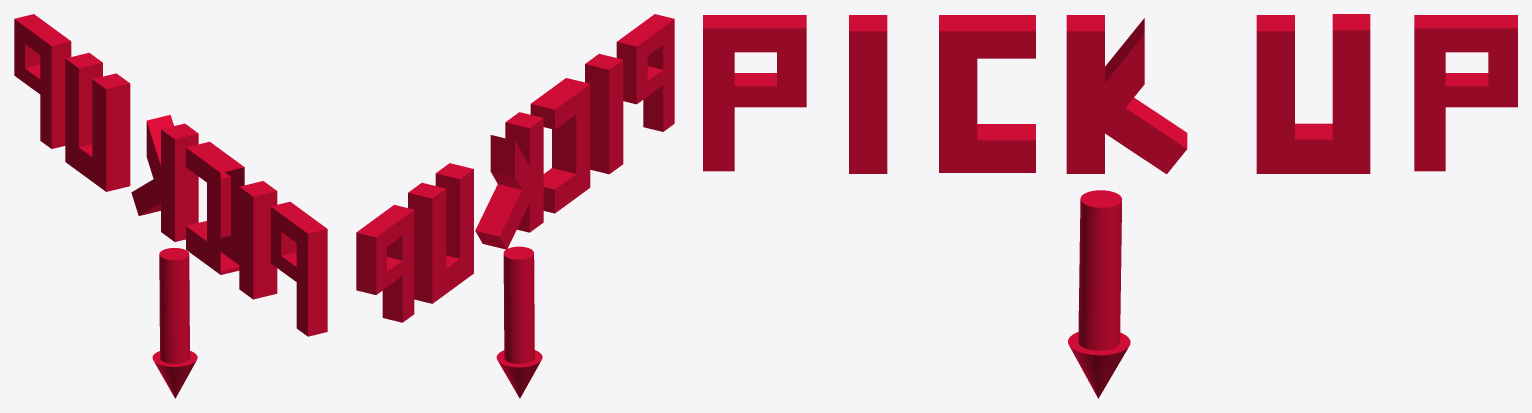
Rendered from PickUP.fbx.
The picture shows the model from 3 angles, left to right: view 1: azimuth 30°, elevation 25°; view 2: azimuth 150°, elevation 25°; view 3: azimuth 270°, elevation 25°; orthographic projection. The views are drawn at different scales.
Visible parts, largest first — view 1: Cube; view 2: Cube; view 3: Cube.
Boxes of the visible parts, x1,y1,x2,y2 form: Cube: (14, 14, 327, 398); Cube: (356, 14, 674, 398); Cube: (703, 14, 1517, 398).
Size of the model in its own units: 200 by 1325 by 2593.
